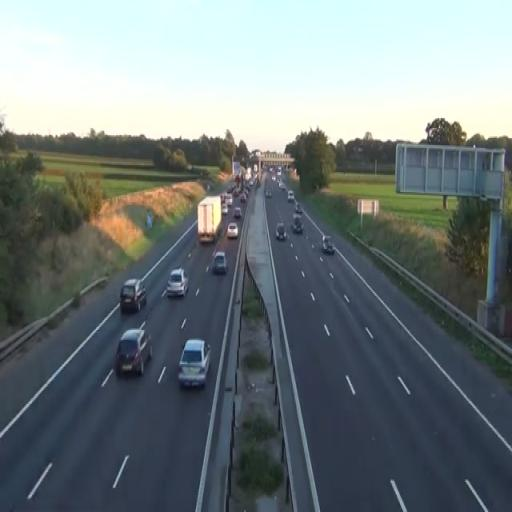Car: (115, 327, 153, 377), (178, 338, 211, 389), (120, 279, 147, 313), (166, 267, 189, 298), (212, 251, 228, 275), (276, 221, 286, 240), (228, 222, 238, 239), (234, 207, 242, 220)
Truck: (196, 196, 222, 246)
